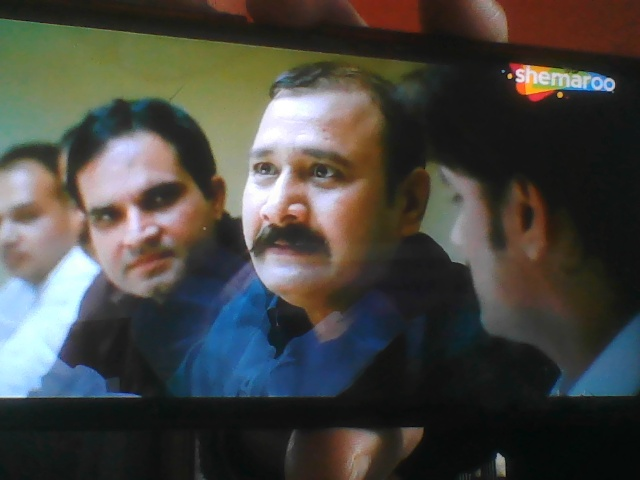fake: (223, 33, 421, 313), (74, 89, 233, 315)
